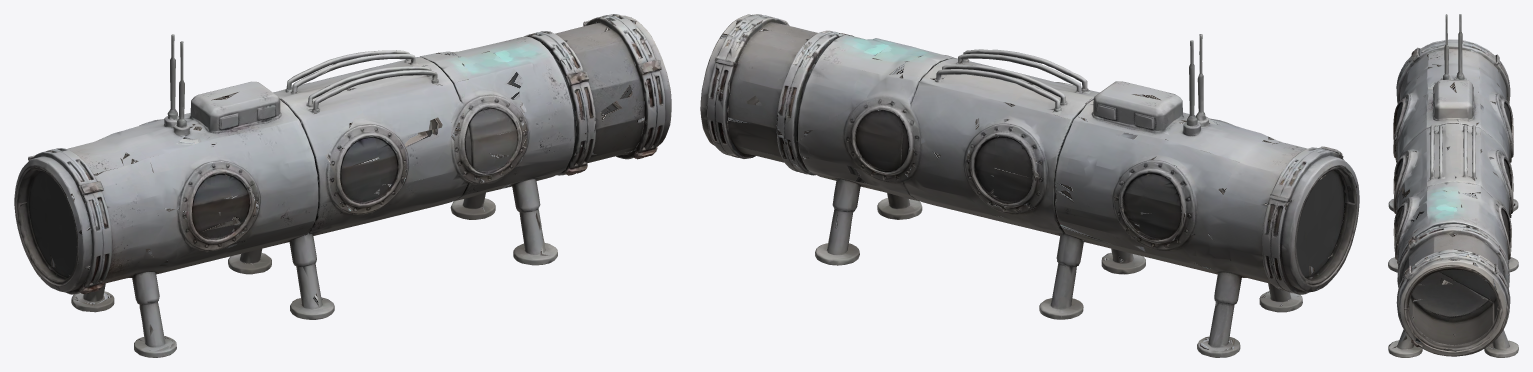
Rendered from building-connector.glb.
3 views of the same model, side by side, from view 1: azimuth 30°, elevation 25°; view 2: azimuth 150°, elevation 25°; view 3: azimuth 270°, elevation 25° (orthographic). The views are drawn at different scales.
Parts seen in each view (by area): view 1: tripo_node_327a0475-d19d-4e90-b09c-81d62ffbae10; view 2: tripo_node_327a0475-d19d-4e90-b09c-81d62ffbae10; view 3: tripo_node_327a0475-d19d-4e90-b09c-81d62ffbae10.
Boxes of the visible parts, x1=… form: tripo_node_327a0475-d19d-4e90-b09c-81d62ffbae10: x1=14, y1=14, x2=671, y2=357; tripo_node_327a0475-d19d-4e90-b09c-81d62ffbae10: x1=700, y1=14, x2=1359, y2=357; tripo_node_327a0475-d19d-4e90-b09c-81d62ffbae10: x1=1388, y1=14, x2=1518, y2=357.
Size of the model in its own units: 0.9812 by 0.4362 by 0.2424.
1 material, 1 textured.
